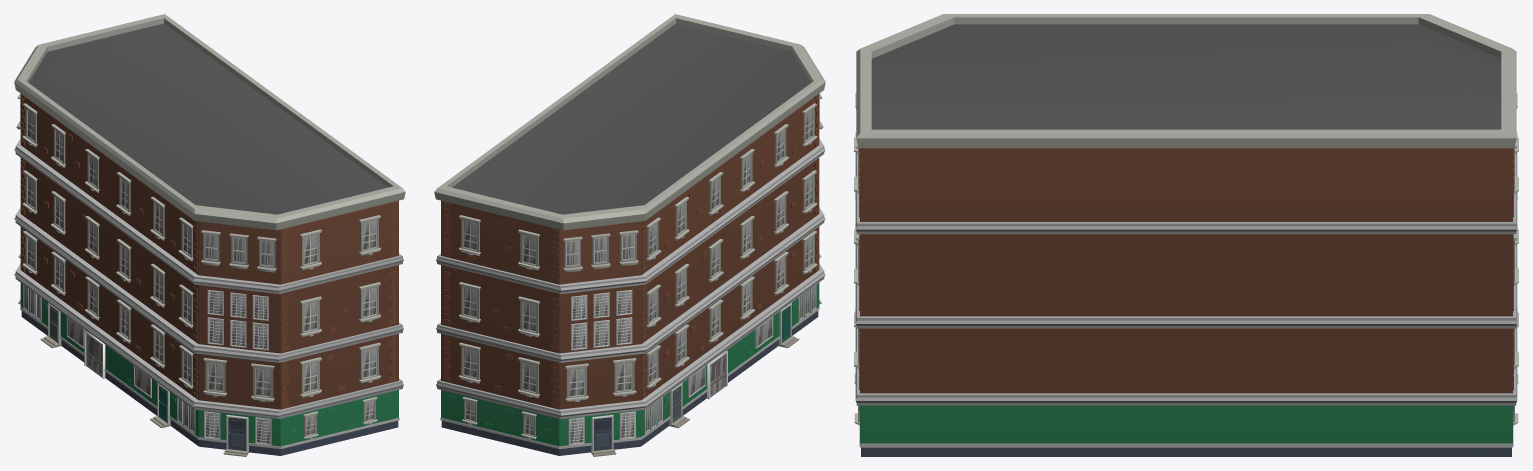
Rendered from Building_25_6_H.glb.
3 views of the same model, side by side, from view 1: azimuth 30°, elevation 25°; view 2: azimuth 150°, elevation 25°; view 3: azimuth 270°, elevation 25° (orthographic). The views are drawn at different scales.
Parts seen in each view (by area): view 1: Building_25_6_H; view 2: Building_25_6_H; view 3: Building_25_6_H.
Boxes of the visible parts, x1,y1,x2,y2 form: Building_25_6_H: (14,14,405,456); Building_25_6_H: (434,14,825,456); Building_25_6_H: (854,14,1518,456).
Bounding box in the file's own units: 12.91 × 15.96 × 29.41.
3 materials, 3 textured.
